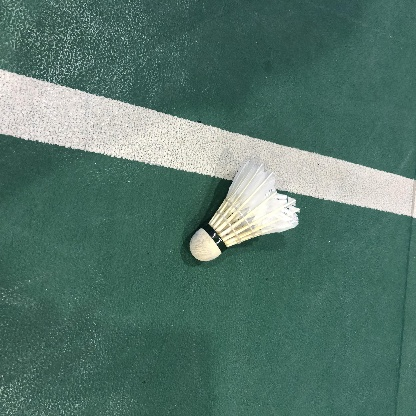ball_single: (190, 159, 300, 261)
